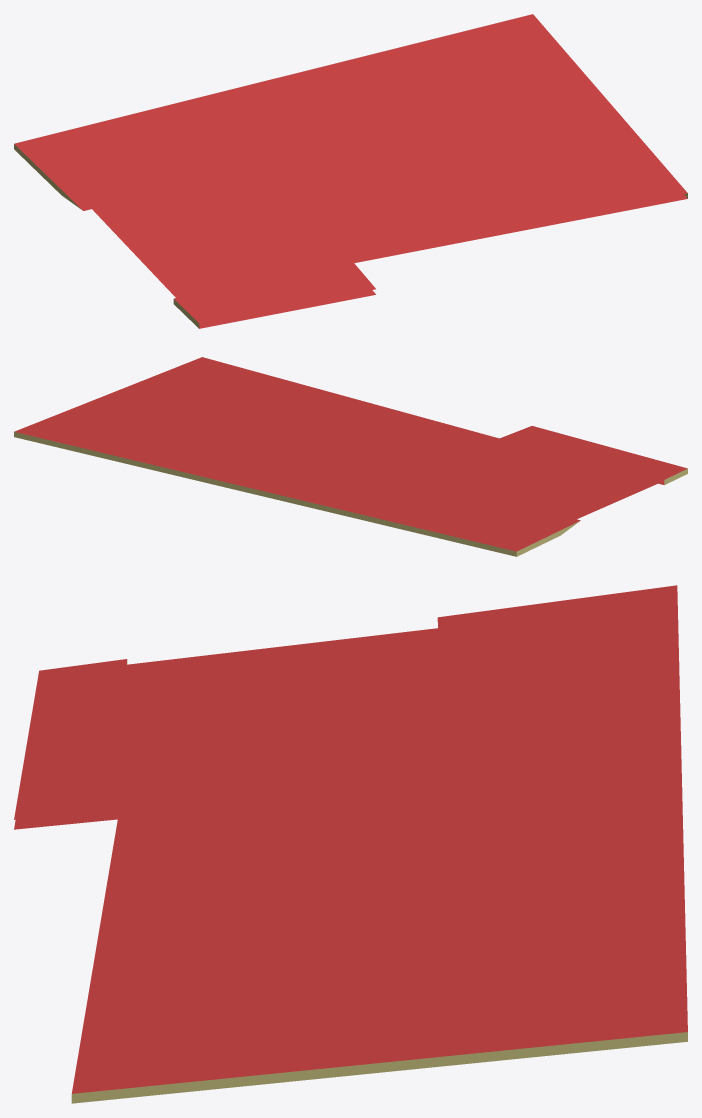
The picture shows the model from 3 angles, top to bottom: view 1: azimuth 30°, elevation 25°; view 2: azimuth 150°, elevation 25°; view 3: azimuth 270°, elevation 25°; orthographic projection. The views are drawn at different scales.
Bounding box in the file's own units: 9.81 × 6.26 × 0.985.
